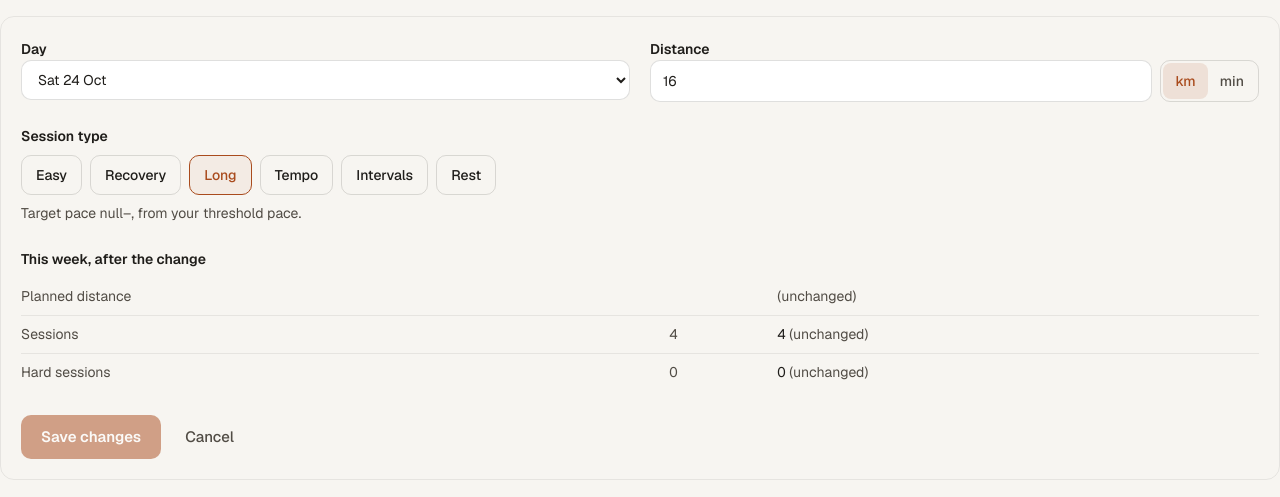
Scenario: the session editor › hides distance for a rest day
The width and height of the screenshot is (1280, 497).
What coordinates should you click on to do the following:
click the radio button labelled "Rest"
I would click on:
 (466, 175)
Its box is [436, 155, 496, 195].
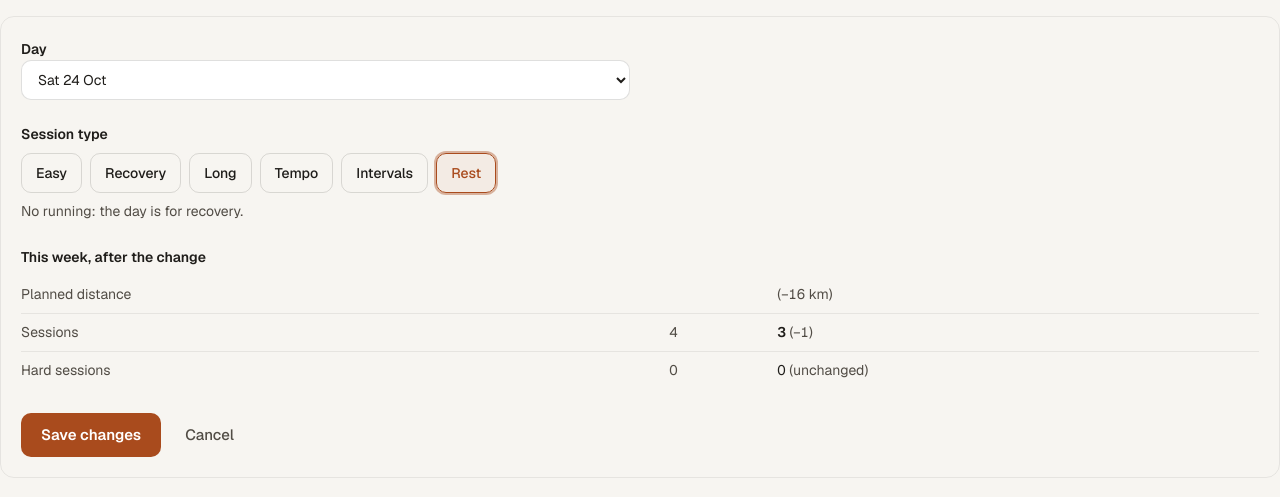
Expected: the row "Sessions 4 3 (−1)" is shown, [21, 313, 1259, 351]
